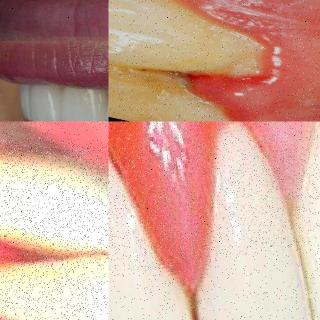Gum Swelling: (109, 121, 239, 293), (185, 0, 320, 122), (0, 214, 52, 320)
plaque: (161, 4, 275, 74), (128, 61, 199, 98), (157, 102, 241, 122)
